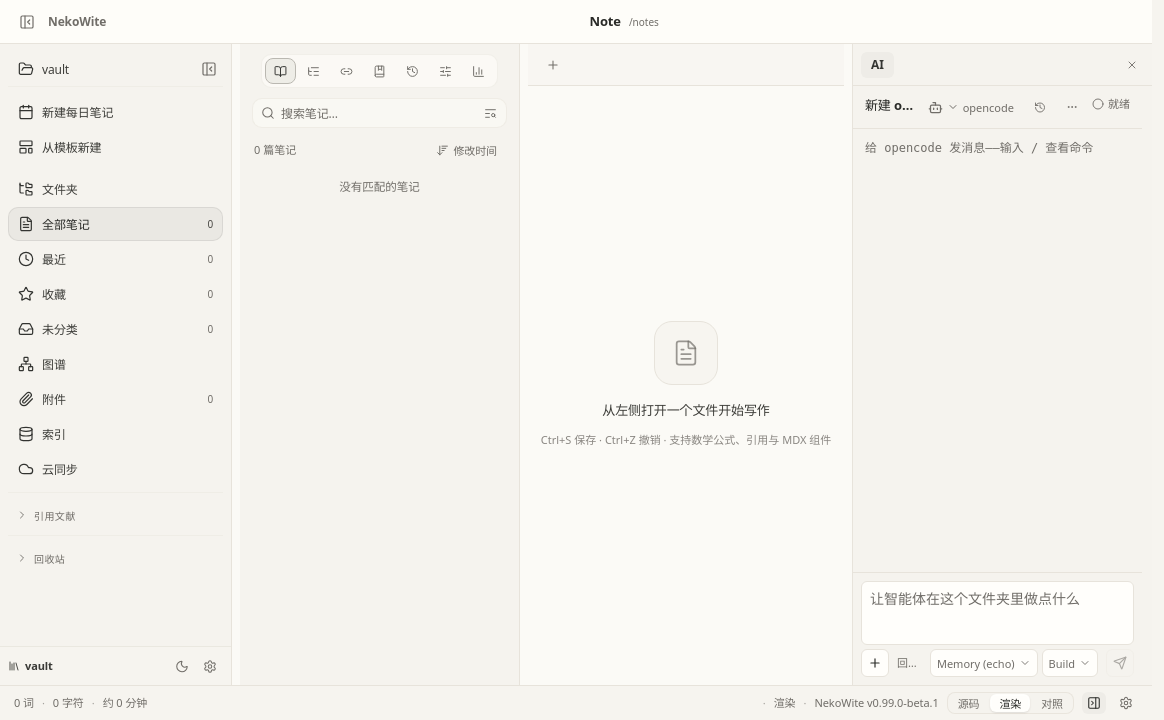
the sessions the engine holds, from the panel’s own control › says so in the engine’s words when a session cannot be reopened, and keeps the one open
The image size is (1164, 720).
Step 1. Click the button named "该引擎保存的会话" → (1040, 107), box top-left (1028, 95), bottom-right (1052, 119)
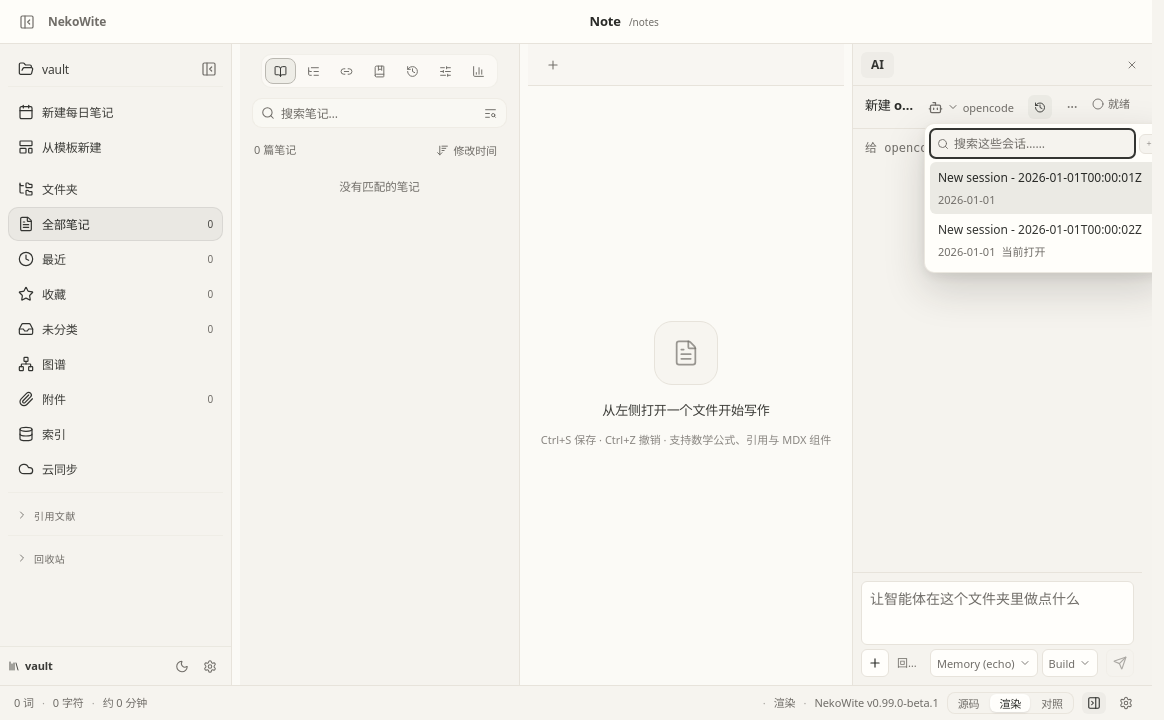
Step 2. Click the option with class "agent-history-option" that starts with "New session - 2026-01-01T00:00:01Z" → (1041, 188), box top-left (930, 162), bottom-right (1152, 214)
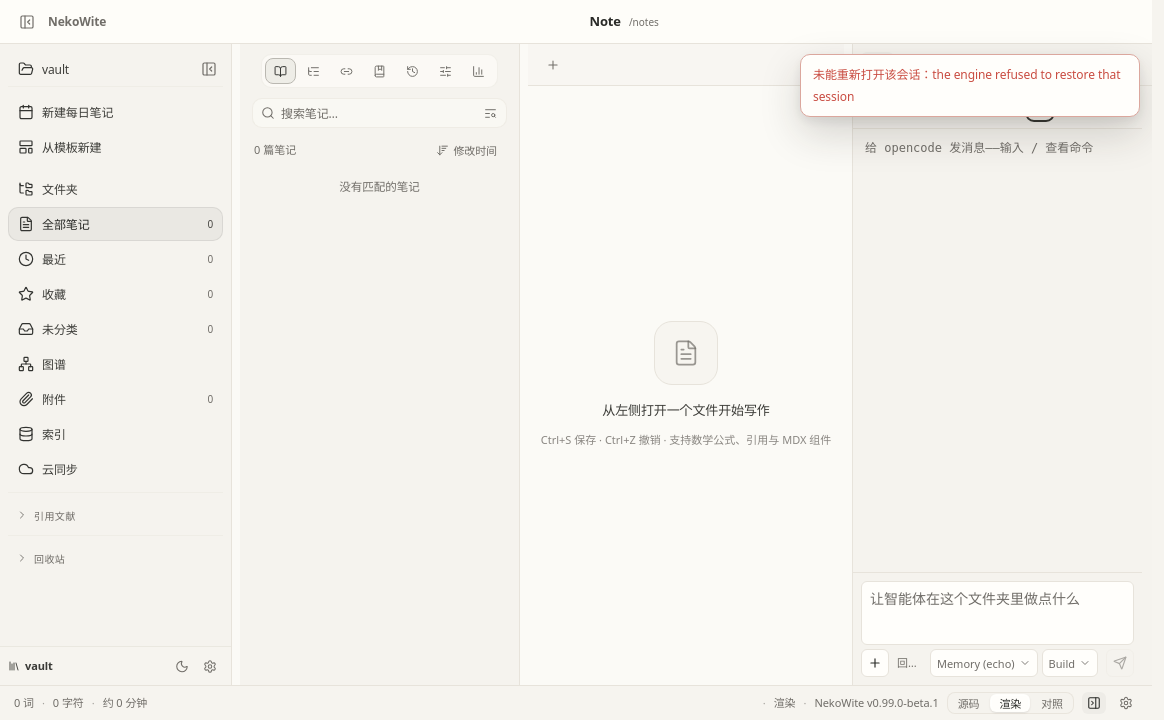
Expected: the message with class "toast" shows "the engine refused to restore that session", top-left (813, 66), bottom-right (1120, 105)
